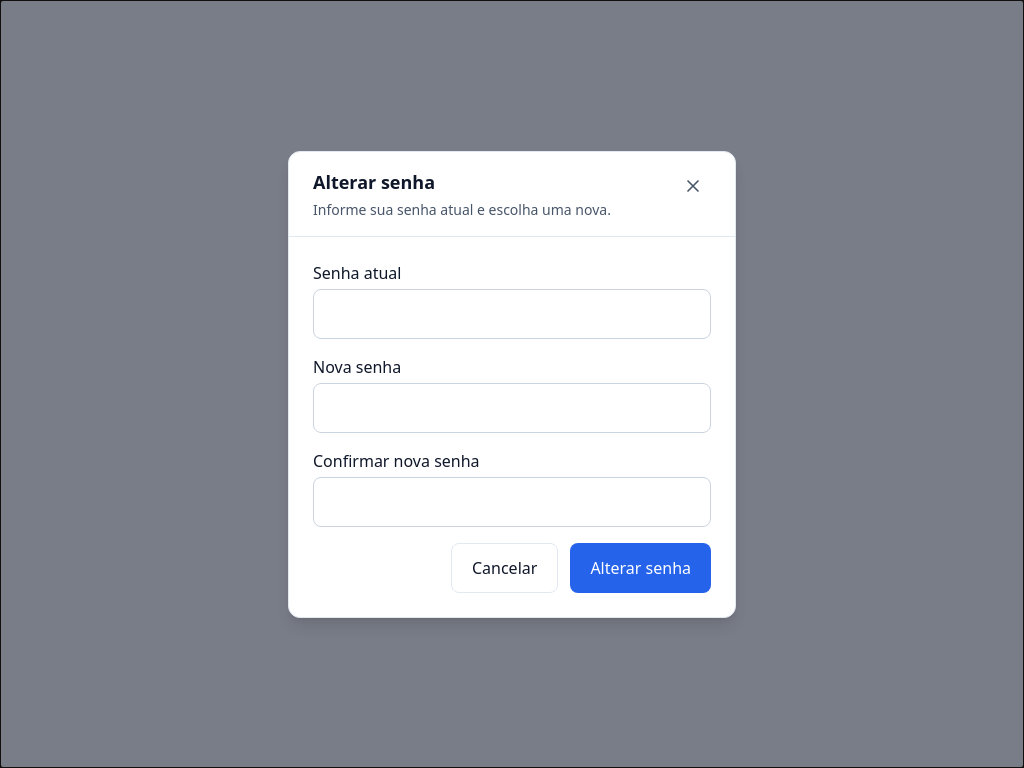
Scenario: ChangePasswordModal › erro não troca o token
This screenshot has width=1024, height=768.
Step 1. Type "errada1234" into the password field labelled "Senha atual" → (512, 314), box [313,288,711,338]
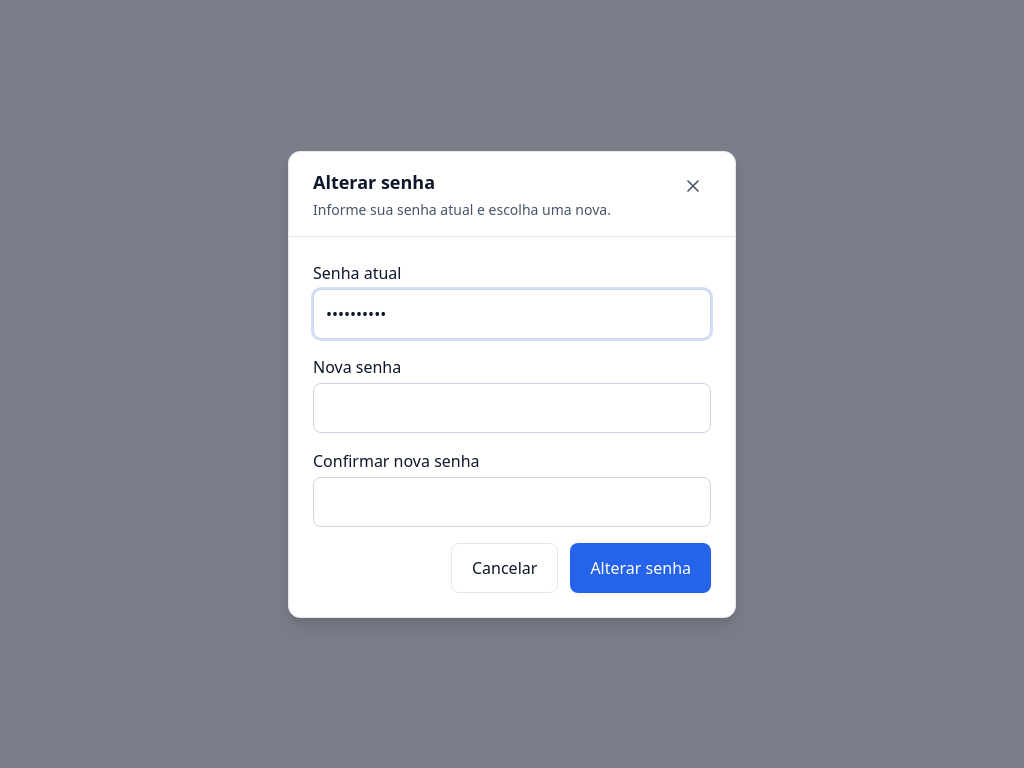
Step 2. Type "NovaSenha123" into the password field labelled "Nova senha" → (512, 408), box [313,382,711,432]
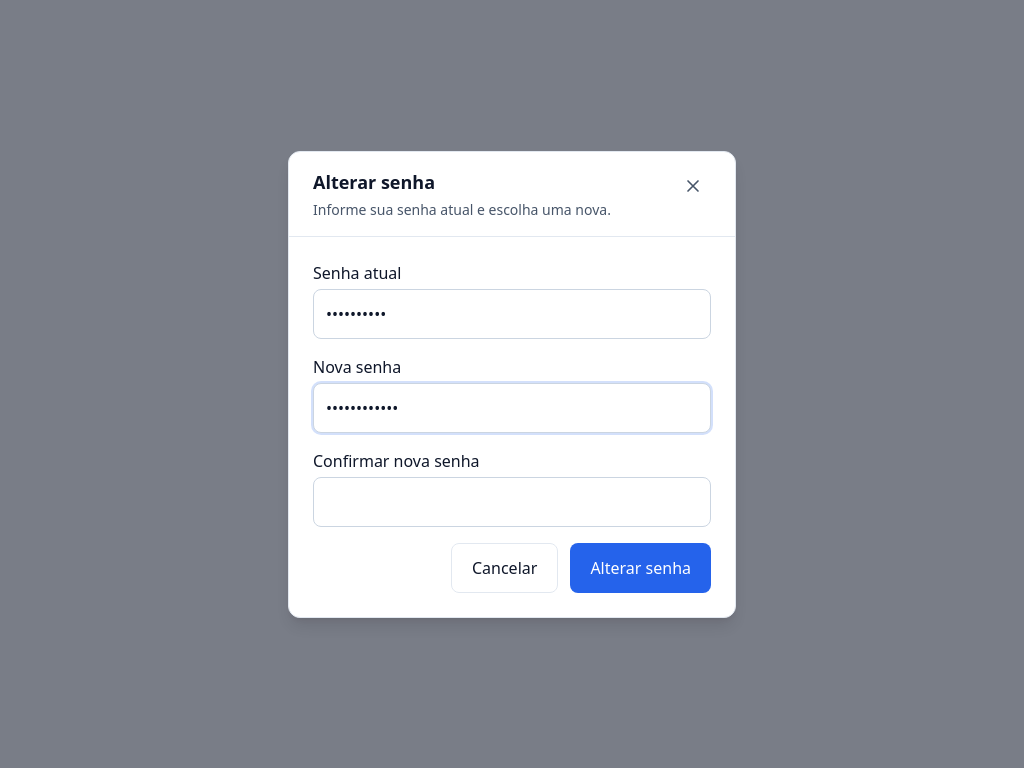
Step 3. Type "NovaSenha123" into the password field labelled "Confirmar nova senha" → (512, 502), box [313,476,711,526]
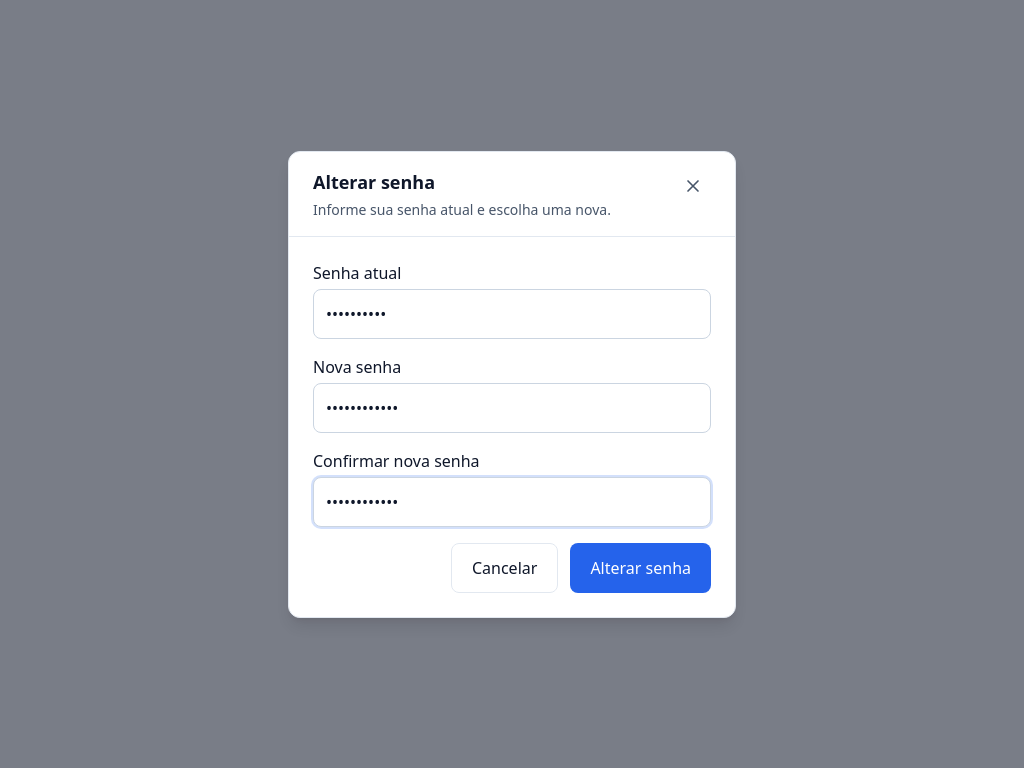
Step 4. Click the button "Alterar senha" → (641, 568), box [570,542,711,592]
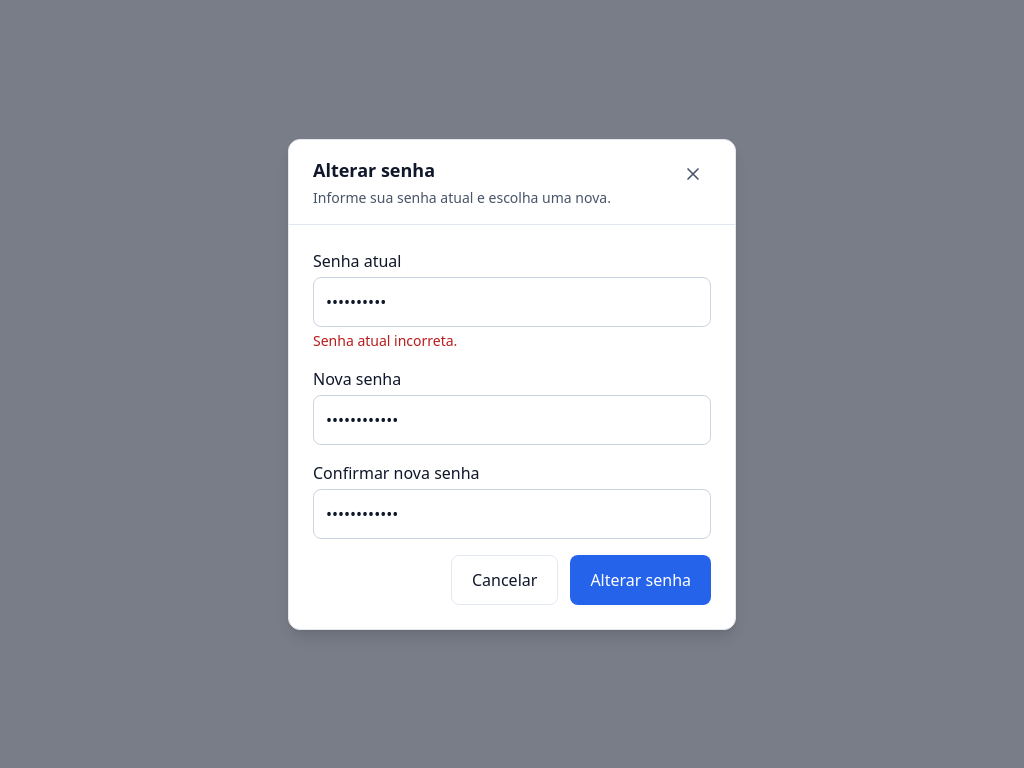
Expected: the text "Senha atual incorreta." is shown, [313,330,457,350]
